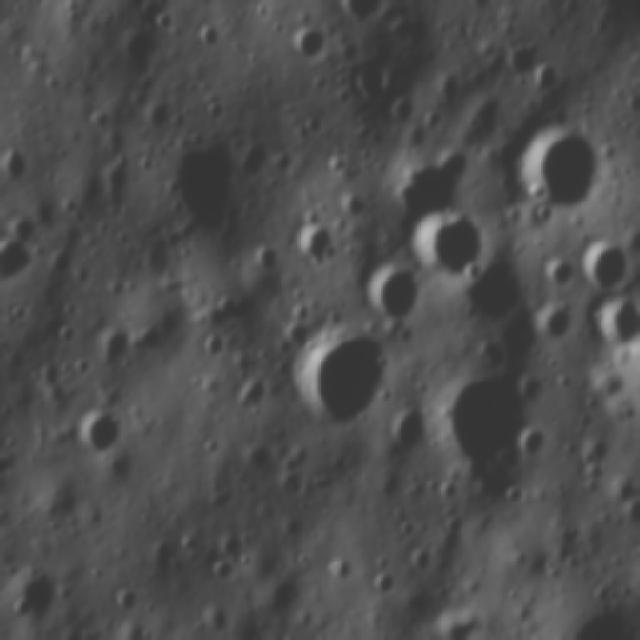crater: (291, 328, 397, 434), (162, 132, 252, 242), (518, 117, 608, 225), (444, 374, 524, 480), (411, 212, 487, 280), (453, 268, 529, 334), (355, 266, 423, 332), (8, 564, 64, 628), (580, 242, 632, 298), (594, 294, 638, 354), (119, 28, 163, 86), (290, 220, 338, 272), (80, 410, 128, 461), (346, 65, 396, 113), (93, 324, 141, 371), (537, 302, 581, 353), (392, 406, 430, 463), (290, 25, 332, 69), (232, 377, 277, 417), (384, 91, 424, 135), (0, 241, 35, 289), (246, 238, 282, 280), (241, 442, 276, 484), (534, 60, 571, 98), (506, 40, 543, 77), (544, 260, 579, 298), (1, 145, 32, 186), (204, 561, 241, 593), (198, 331, 232, 363), (403, 547, 435, 581), (324, 555, 356, 587), (521, 423, 548, 460), (372, 571, 399, 607), (108, 586, 141, 614)
